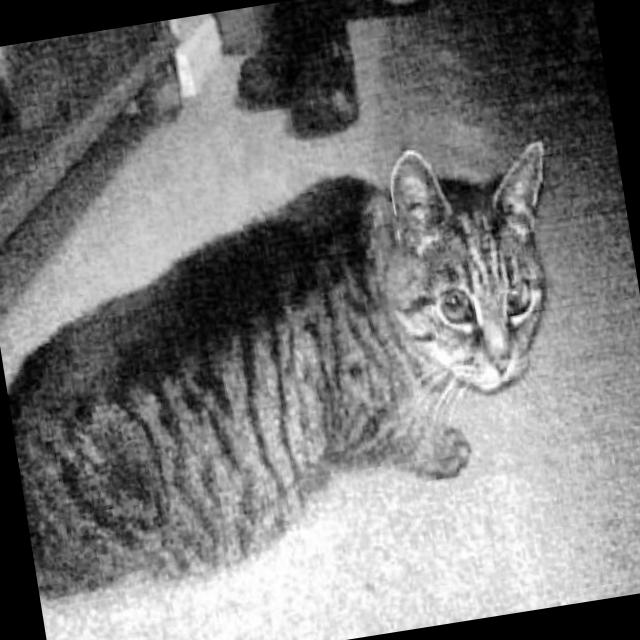Cat: (0, 116, 612, 632)
